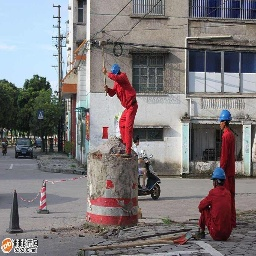helmet: (211, 167, 227, 182), (220, 107, 231, 123), (112, 62, 122, 76)
person: (104, 63, 140, 159), (194, 168, 236, 244), (216, 107, 238, 165)
